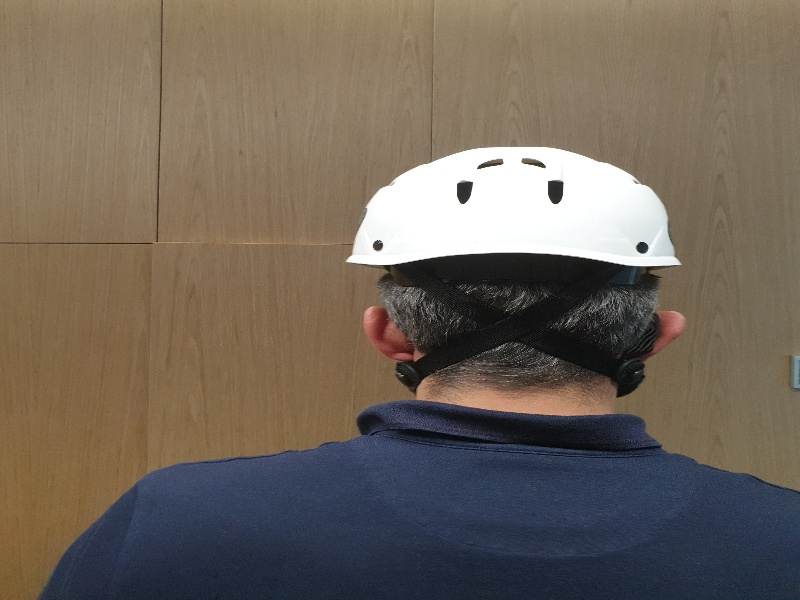Baret: (350, 152, 680, 276)
